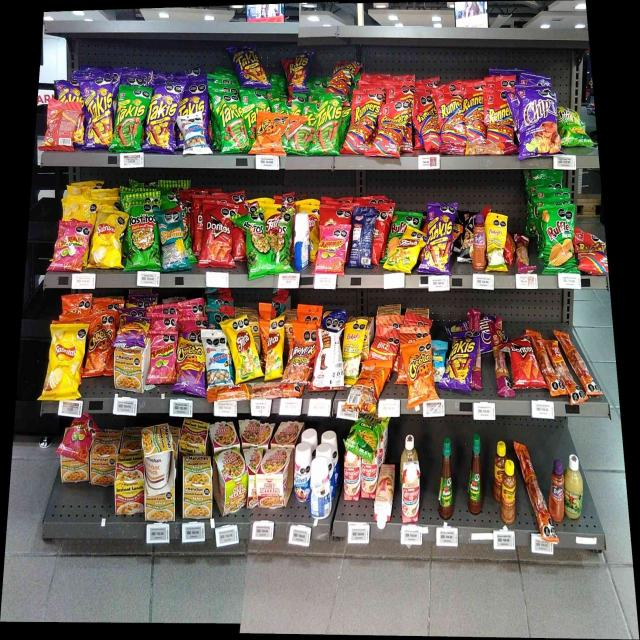bitzAlmendras: (431, 342, 447, 381)
bitzEnchilado90: (373, 328, 398, 360)
bitzEnchilado95: (518, 441, 547, 535), (208, 385, 304, 399), (562, 372, 582, 404), (546, 338, 562, 365)
bitzHabanero: (490, 323, 510, 396), (514, 234, 537, 275), (439, 144, 514, 155)
bokadosCacahuates: (352, 208, 372, 268)
botaneraChilito: (501, 462, 515, 524)
cheetosFlaminHot: (178, 332, 205, 397), (119, 315, 147, 347)
cheetosOriginal: (85, 318, 113, 374), (404, 345, 430, 404), (258, 114, 286, 154)
chipsFuego: (516, 85, 556, 157)
chipsPapatinas: (558, 105, 591, 148), (350, 417, 378, 457)
churrumais: (56, 223, 88, 270), (150, 330, 177, 383), (318, 226, 346, 274), (66, 421, 90, 456)
delPrimoSalsa: (566, 454, 583, 518)
doritosNacho: (202, 203, 232, 267), (512, 340, 539, 387)
fritosLimon: (230, 320, 262, 382), (404, 227, 425, 273), (268, 322, 284, 378), (267, 204, 280, 248), (388, 252, 403, 271)
leoCacahuates: (206, 330, 230, 385), (180, 115, 203, 154)
leoMix: (286, 323, 315, 382)
maruchanPollo: (144, 426, 175, 487), (183, 453, 212, 518), (114, 351, 143, 391), (145, 490, 174, 522), (61, 458, 90, 482), (92, 456, 115, 485)
maruchanRes: (116, 456, 143, 512)
nestleCarnation: (375, 461, 395, 528), (402, 462, 419, 523), (344, 459, 360, 502), (362, 458, 374, 498)
nestleLechera: (312, 459, 331, 518), (294, 214, 310, 269), (295, 444, 310, 501)
nissinCamaron: (214, 451, 248, 511)
nissinRes: (256, 449, 292, 507)
popKarameladas: (460, 213, 472, 263)
productoAtras: (316, 328, 343, 389), (360, 360, 381, 413)
rancheritos: (373, 205, 383, 264), (321, 207, 350, 224)
rufflesQueso: (539, 202, 577, 274), (387, 211, 402, 248)
runners: (378, 104, 408, 158), (352, 92, 376, 156), (483, 90, 514, 139), (412, 93, 437, 150), (578, 231, 608, 277), (438, 91, 462, 142), (463, 91, 482, 140), (331, 64, 355, 90)
sabritasOriginal: (50, 325, 82, 398), (90, 212, 123, 267), (64, 199, 88, 220)
salsaBufalo: (468, 434, 484, 513), (439, 437, 453, 517)
semillasCalabaza: (487, 215, 508, 272), (344, 324, 359, 386)
semillasGirasol: (159, 210, 183, 269)
tajinDulce: (550, 460, 564, 522), (474, 214, 484, 270)
takisFuego: (148, 86, 178, 152), (85, 79, 113, 148), (427, 204, 454, 274), (448, 331, 475, 390), (237, 47, 269, 88), (179, 81, 207, 111), (56, 80, 84, 102), (295, 55, 309, 91), (75, 118, 84, 146)
takisOriginal: (115, 83, 146, 152), (209, 90, 240, 151), (317, 92, 342, 154), (242, 91, 256, 150), (287, 128, 314, 156), (291, 100, 316, 117), (258, 93, 271, 112)
tostitos: (125, 196, 157, 268), (244, 212, 265, 278), (282, 213, 292, 272)
